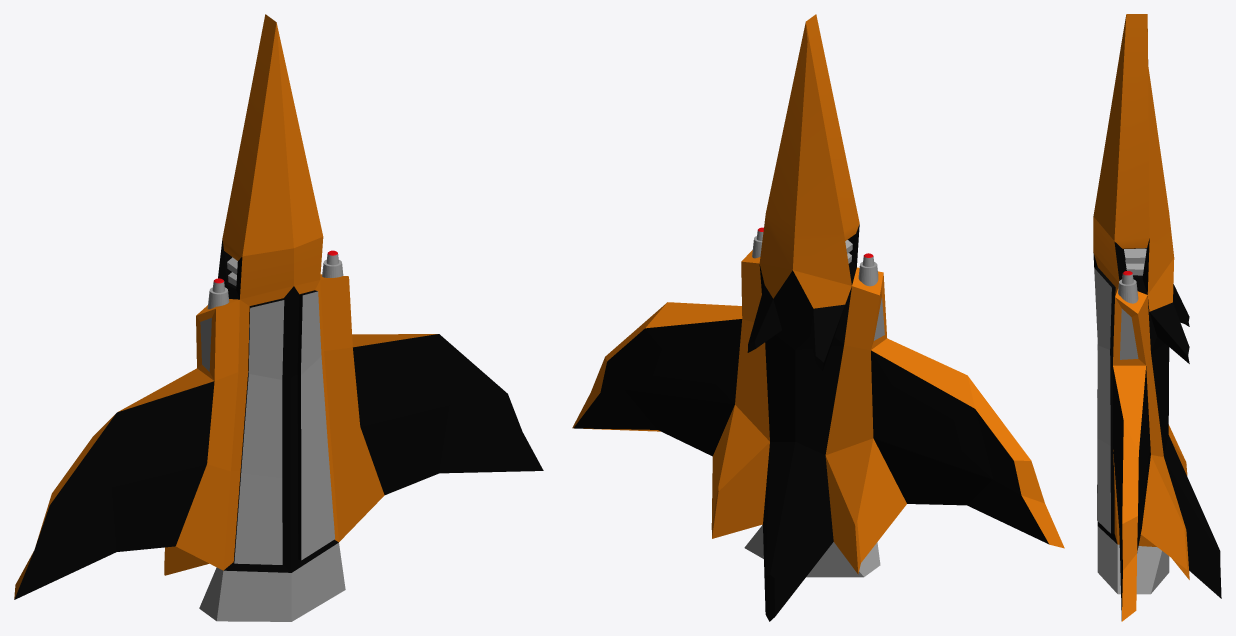
Rendered from Enemy_5.fbx.
The picture shows the model from 3 angles, left to right: view 1: azimuth 30°, elevation 25°; view 2: azimuth 150°, elevation 25°; view 3: azimuth 270°, elevation 25°; orthographic projection. The views are drawn at different scales.
Parts seen in each view (by area): view 1: Cube; view 2: Cube; view 3: Cube.
Part boxes in pixels (<box>): Cube: <box>14,14,543,621</box>; Cube: <box>572,14,1064,621</box>; Cube: <box>1093,14,1221,621</box>.
Bounding box in the file's own units: 1262 × 1404 × 279.
